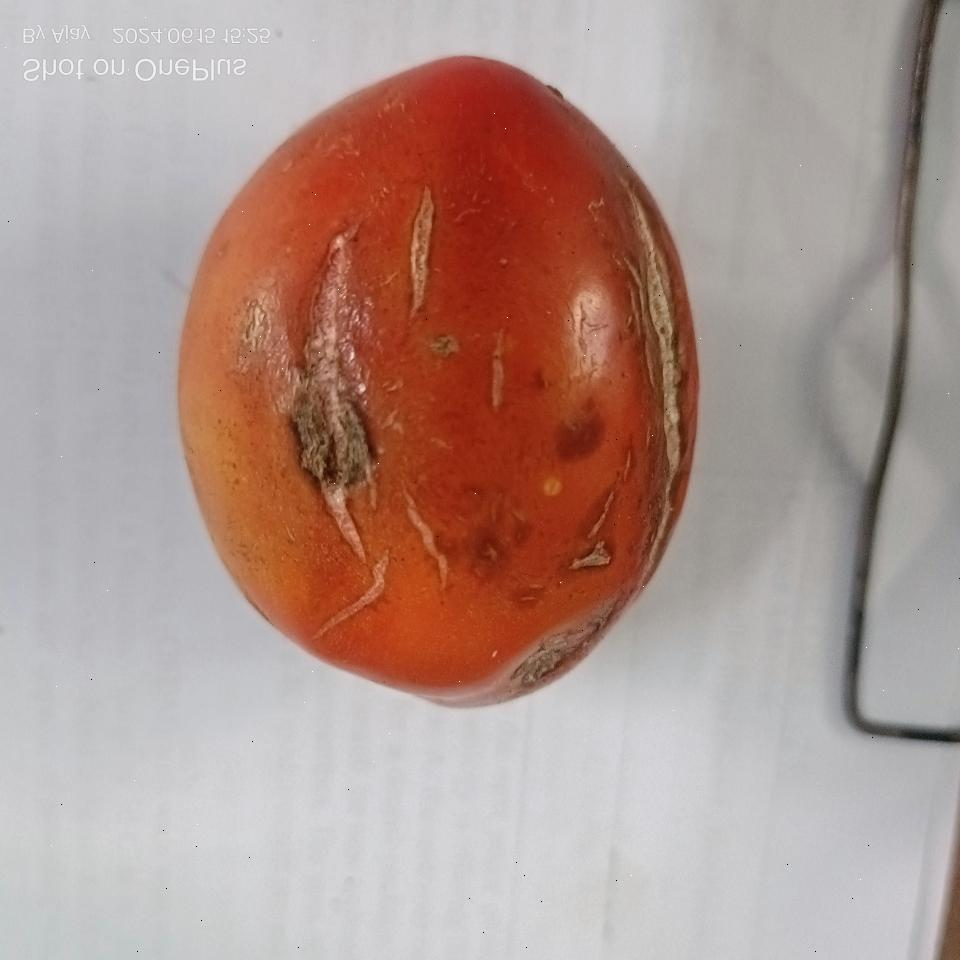Cracking: (284, 239, 401, 650)
